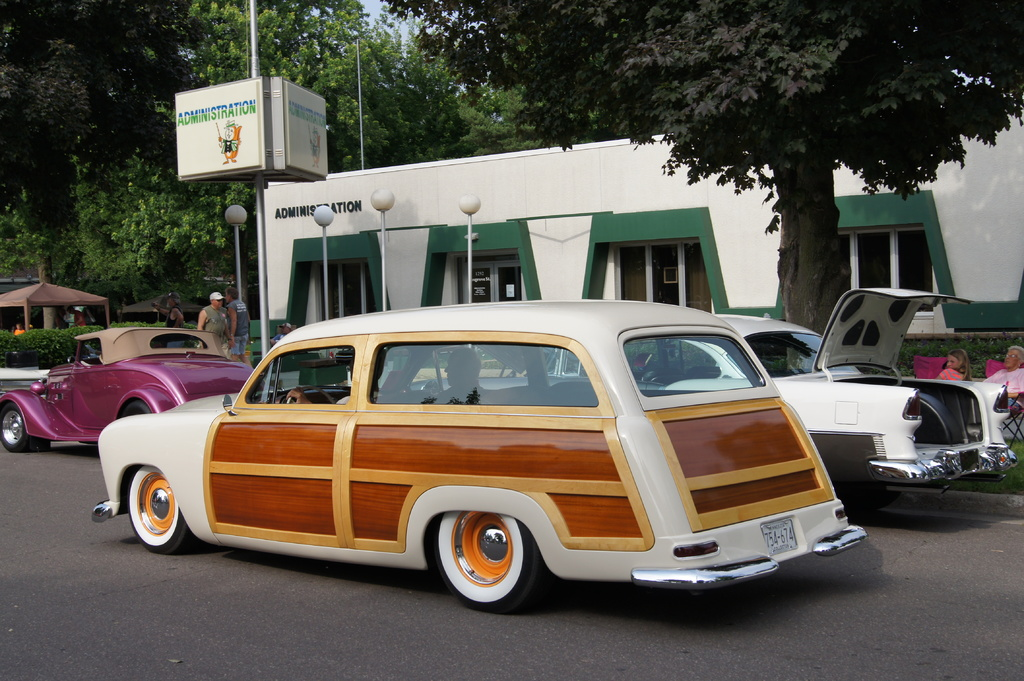Car: (92, 299, 867, 613), (475, 285, 1018, 513), (0, 327, 270, 453)
